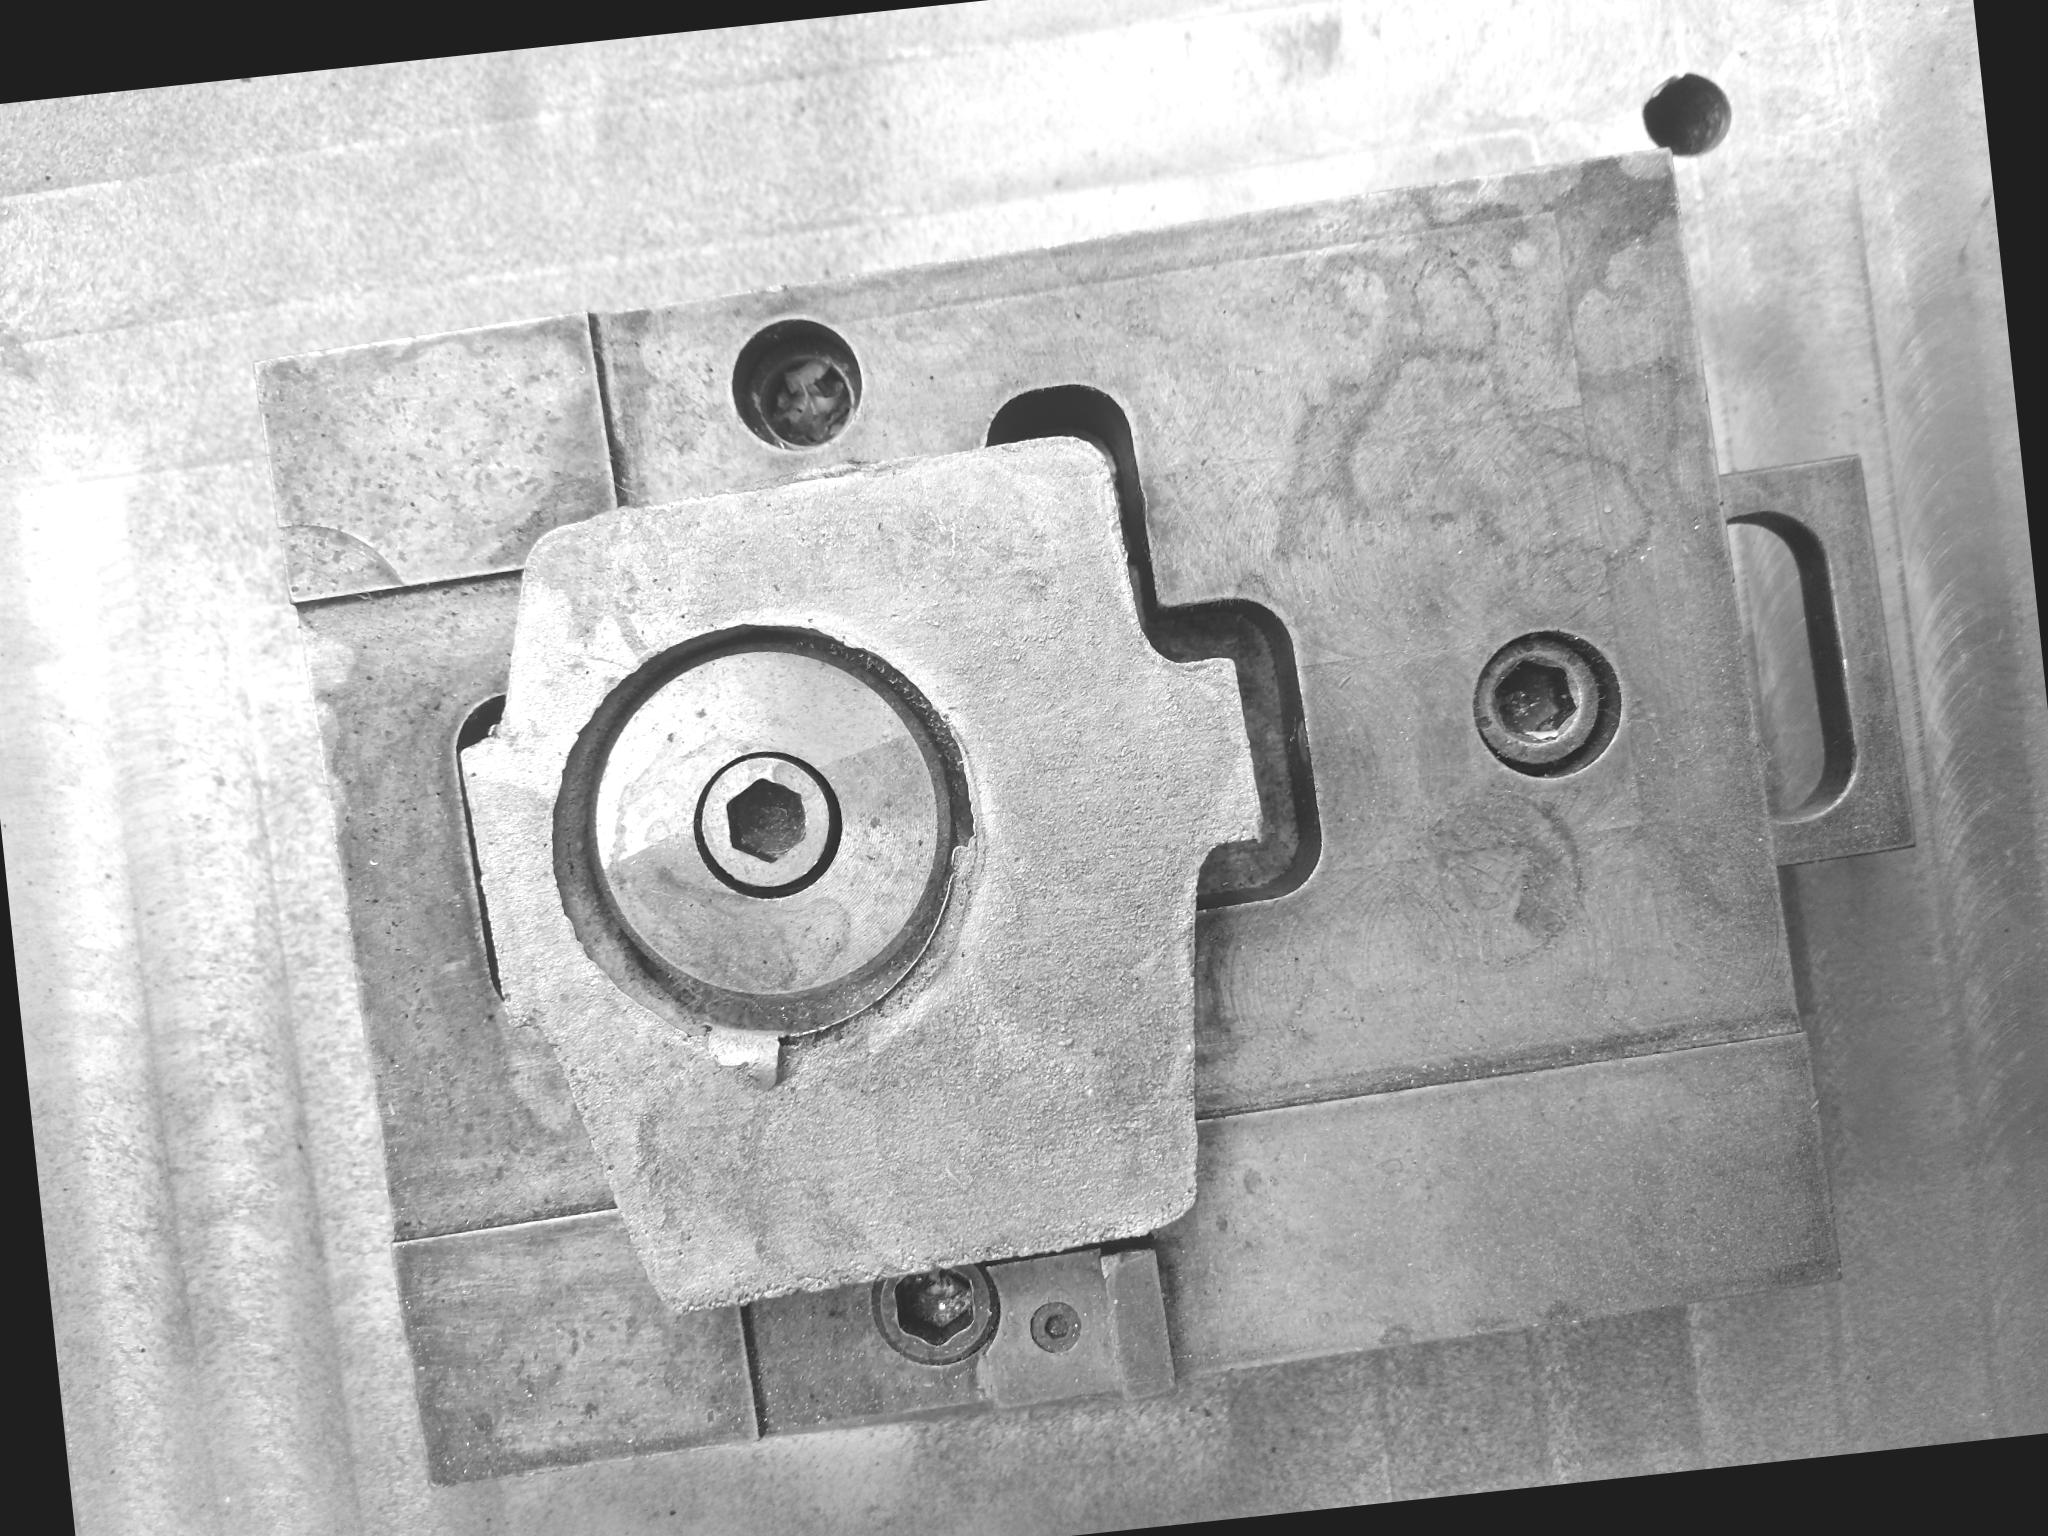screw: (671, 741, 848, 912), (1456, 615, 1617, 784), (861, 1246, 1008, 1376), (1021, 1294, 1085, 1359)
